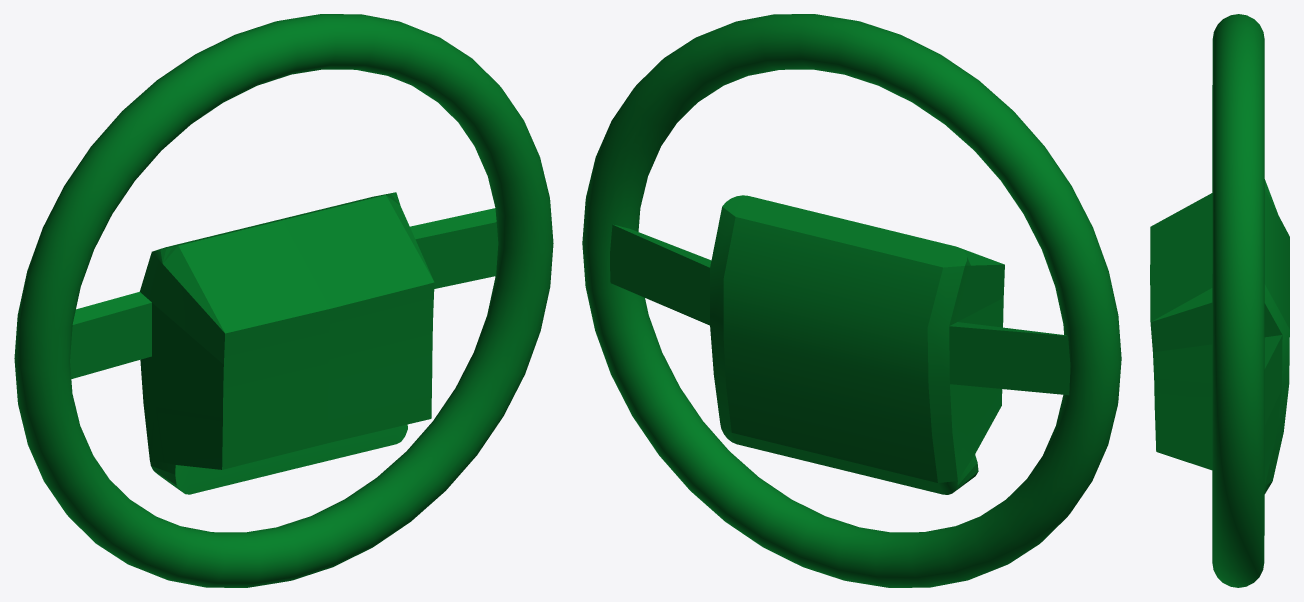
The model's file is PickUp_Steering_Wheel_Lod0.fbx.
3 views of the same model, side by side, from view 1: azimuth 30°, elevation 25°; view 2: azimuth 150°, elevation 25°; view 3: azimuth 270°, elevation 25° (orthographic). The views are drawn at different scales.
Parts seen in each view (by area): view 1: PickUp_Steering_Wheel_Lod0; view 2: PickUp_Steering_Wheel_Lod0; view 3: PickUp_Steering_Wheel_Lod0.
Boxes of the visible parts, <box> form: PickUp_Steering_Wheel_Lod0: <box>14,14,553,587</box>; PickUp_Steering_Wheel_Lod0: <box>582,14,1121,587</box>; PickUp_Steering_Wheel_Lod0: <box>1150,14,1289,587</box>.
Size of the model in its own units: 44.82 by 44.82 by 10.91.
